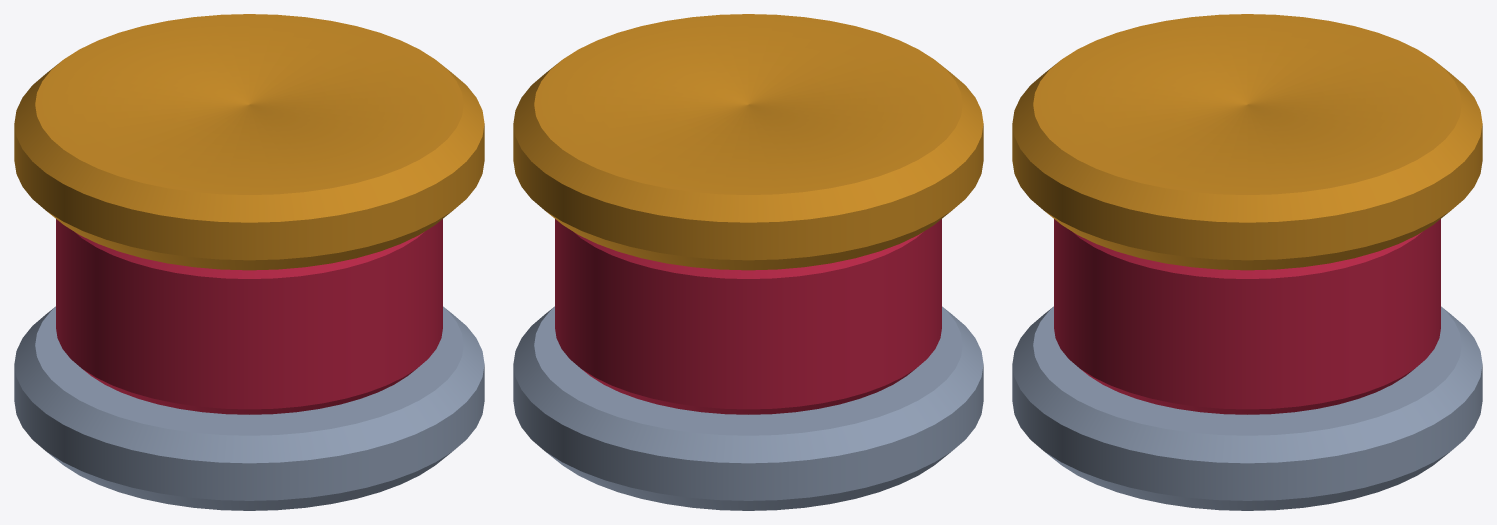
File: removable-cap.glb
The picture shows the model from 3 angles, left to right: view 1: azimuth 30°, elevation 25°; view 2: azimuth 150°, elevation 25°; view 3: azimuth 270°, elevation 25°; orthographic projection.
Parts seen in each view (by area): view 1: service_cap, service_ring, spindle; view 2: service_cap, service_ring, spindle; view 3: service_cap, service_ring, spindle.
Boxes of the visible parts, x1,y1,x2,y2 form: service_cap: (14,14,484,270); service_ring: (56,219,442,414); spindle: (14,306,484,510); service_cap: (513,14,983,270); service_ring: (555,219,941,414); spindle: (513,306,983,510); service_cap: (1012,14,1482,270); service_ring: (1054,219,1440,414); spindle: (1012,306,1482,510).
Bounding box in the file's own units: 34 × 25.2 × 34.
